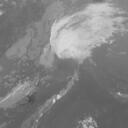cyclone: (49, 21, 92, 62)
